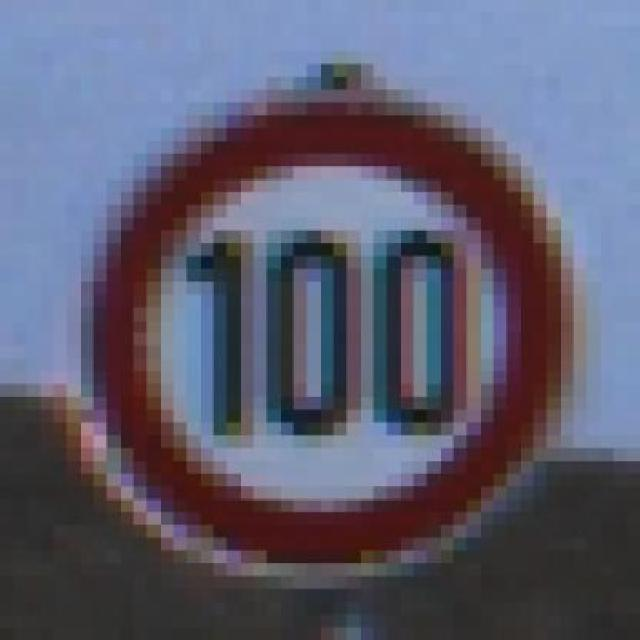forb_speed_over_100: (90, 108, 570, 566)
